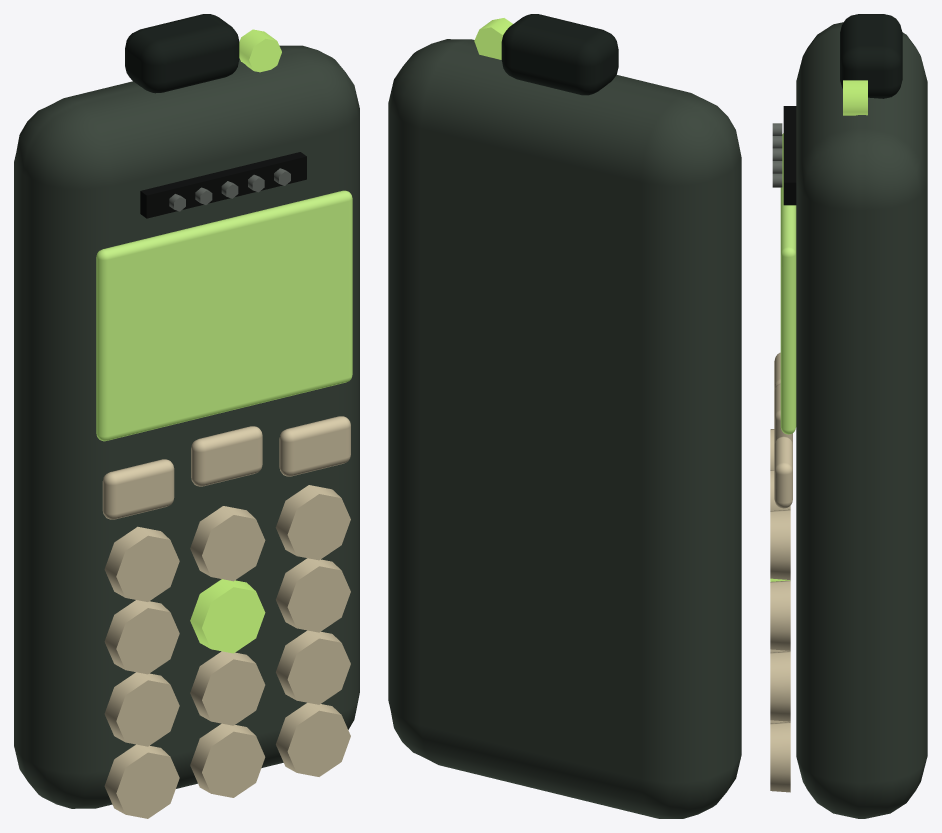
Rendered from ucb_phone_nokia_3310_psx.glb.
3 renders of one model, left to right at view 1: azimuth 30°, elevation 25°; view 2: azimuth 150°, elevation 25°; view 3: azimuth 270°, elevation 25°, orthographic. The views are drawn at different scales.
Parts seen in each view (by area): view 1: phone_shell, lcd_screen, antenna, key_2, key_3, key_1, key_7, key_8, key_0, key_4, key_5, key_6 (+8 smaller); view 2: phone_shell, antenna, phone_torch; view 3: phone_shell, antenna, lcd_screen, key_6, key_9, key_#, key_3, speaker, key_R, phone_torch, key_OK.
Boxes of the visible parts, x1,y1,x2,y2 form: phone_shell: [14, 45, 359, 808]; lcd_screen: [96, 190, 352, 441]; antenna: [125, 14, 239, 93]; key_2: [190, 506, 265, 581]; key_3: [275, 485, 350, 560]; key_1: [104, 526, 179, 601]; key_7: [104, 672, 179, 746]; key_8: [190, 651, 265, 725]; key_0: [190, 723, 265, 797]; key_4: [104, 600, 179, 674]; key_5: [190, 579, 265, 653]; key_6: [276, 558, 350, 632]; phone_shell: [388, 39, 741, 818]; antenna: [501, 14, 618, 95]; phone_torch: [474, 18, 512, 59]; phone_shell: [796, 22, 927, 818]; antenna: [840, 14, 902, 98]; lcd_screen: [780, 133, 796, 434]; key_6: [770, 580, 790, 650]; key_9: [770, 651, 790, 721]; key_#: [770, 722, 790, 792]; key_3: [770, 509, 790, 579]; speaker: [783, 106, 796, 205]; key_R: [774, 436, 792, 508]; phone_torch: [843, 80, 867, 115]; key_OK: [774, 383, 792, 444].
Size of the model in its own units: 1.18 by 2.58 by 0.5025.
